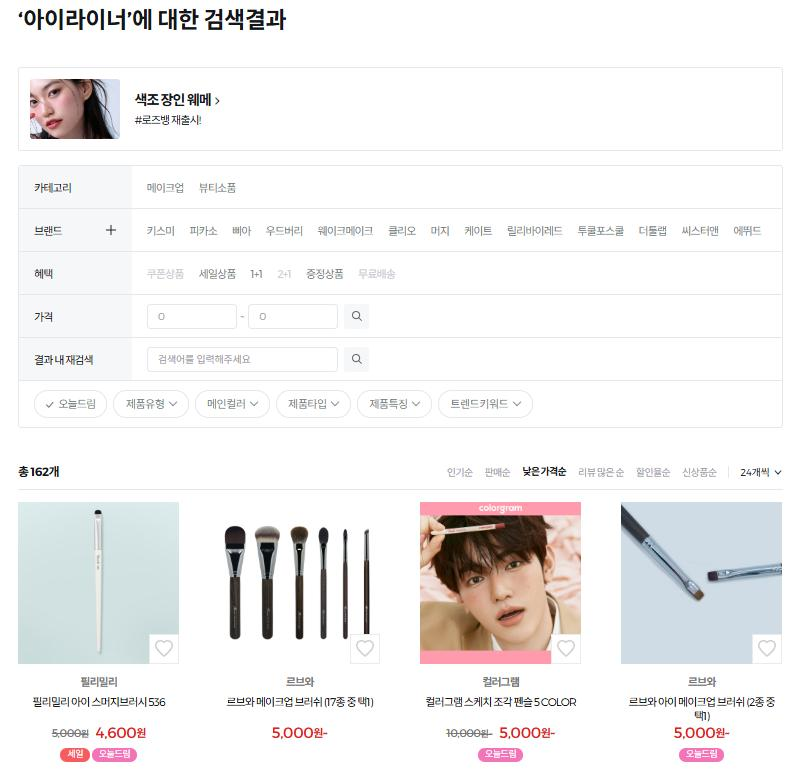button: (29, 218, 123, 237), (41, 391, 103, 419), (137, 87, 224, 106), (322, 224, 381, 241), (142, 176, 186, 197), (508, 222, 563, 238), (754, 633, 783, 660), (518, 462, 564, 478), (263, 220, 307, 236), (581, 222, 626, 237), (148, 633, 176, 657), (351, 638, 377, 663), (351, 268, 393, 283), (553, 638, 580, 661), (197, 176, 236, 191), (346, 350, 370, 373), (680, 224, 719, 238), (147, 266, 186, 280), (462, 221, 494, 237), (203, 268, 242, 281), (577, 469, 627, 479), (346, 303, 367, 324), (304, 268, 342, 279), (149, 227, 181, 240), (681, 464, 713, 476), (231, 221, 253, 238), (192, 226, 227, 236), (736, 223, 770, 233), (637, 469, 674, 478), (634, 226, 660, 238), (483, 464, 509, 476), (441, 468, 471, 478), (390, 222, 416, 233), (432, 226, 452, 237), (272, 271, 290, 280), (250, 268, 263, 280)
checkbox: (194, 394, 270, 418), (111, 390, 183, 414), (440, 397, 528, 416), (357, 391, 428, 414), (280, 392, 346, 414), (742, 467, 783, 479)
input_field: (150, 347, 340, 372), (248, 307, 336, 329), (146, 307, 236, 328)
